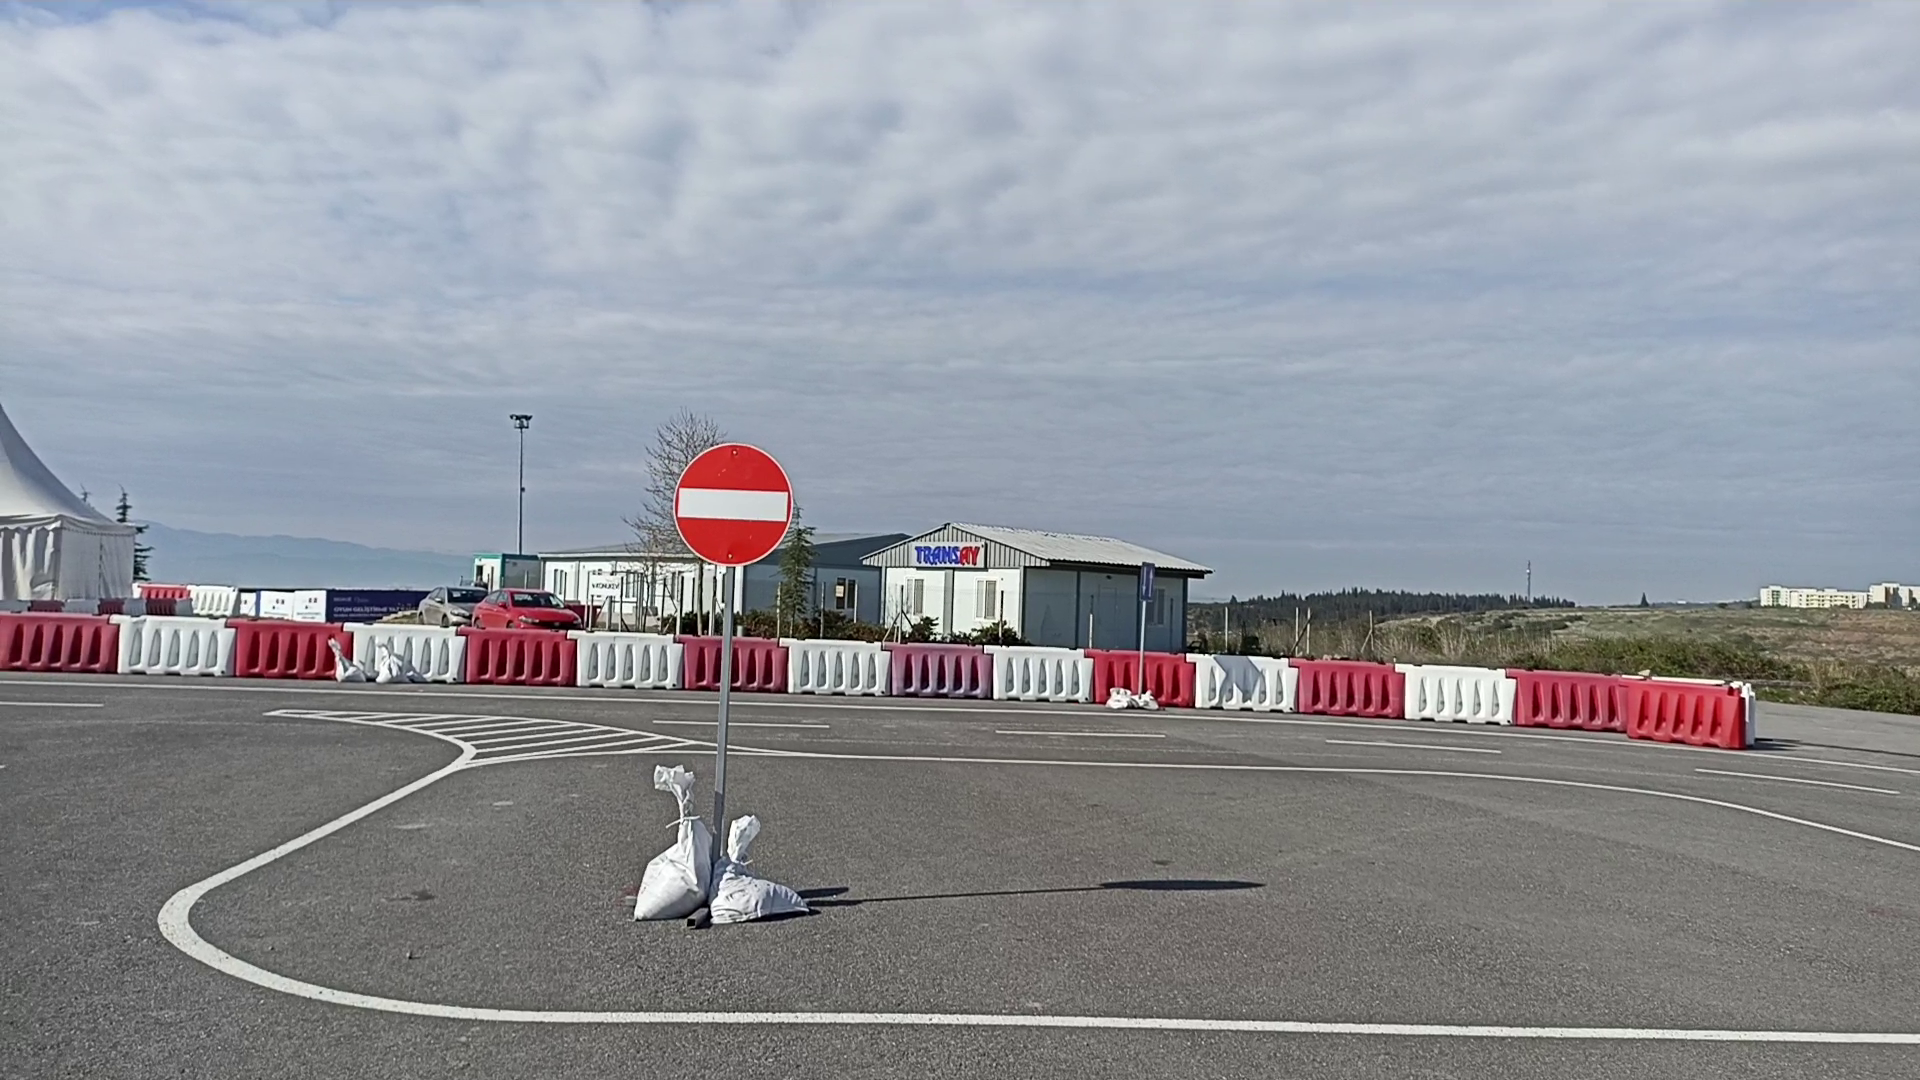noentryway: (666, 440, 795, 570)
